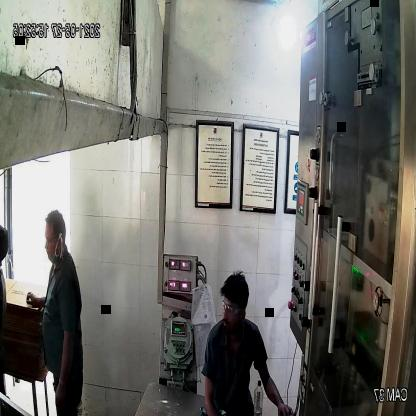goggles: (221, 298, 248, 318)
